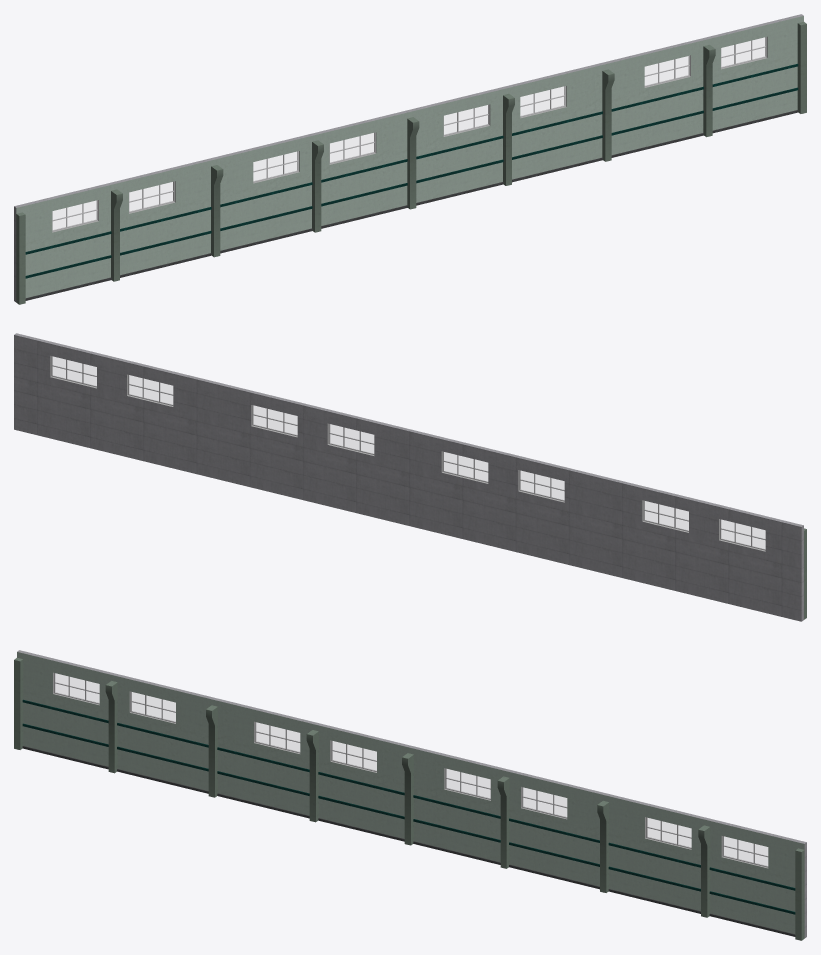
The model's file is WareBig_Walls_Wind.glb.
The picture shows the model from 3 angles, top to bottom: view 1: azimuth 30°, elevation 25°; view 2: azimuth 150°, elevation 25°; view 3: azimuth 330°, elevation 25°; orthographic projection.
Visible parts, largest first — view 1: WareBig_Walls_Wind (×2), WareBig_Column, WareBig_Windglass, WareBig_W, WareBig_Wind; view 2: WareBig_Walls_Wind, WareBig_Windglass, WareBig_Wind; view 3: WareBig_Walls_Wind (×2), WareBig_Column, WareBig_Windglass, WareBig_W, WareBig_Wind.
Part boxes in pixels (left/top/right/bottom): WareBig_Walls_Wind (×2): left=14, top=14, right=803, bottom=302; WareBig_Column: left=16, top=22, right=806, bottom=304; WareBig_Windglass: left=53, top=38, right=765, bottom=229; WareBig_W: left=25, top=63, right=798, bottom=278; WareBig_Wind: left=52, top=37, right=766, bottom=231; WareBig_Walls_Wind: left=14, top=333, right=803, bottom=621; WareBig_Windglass: left=52, top=357, right=765, bottom=548; WareBig_Wind: left=51, top=356, right=765, bottom=550; WareBig_Walls_Wind (×2): left=17, top=650, right=806, bottom=938; WareBig_Column: left=14, top=658, right=804, bottom=940; WareBig_Windglass: left=55, top=673, right=767, bottom=865; WareBig_W: left=22, top=699, right=795, bottom=914; WareBig_Wind: left=54, top=673, right=768, bottom=867.
Bounding box in the file's own units: 76.17 × 8.75 × 1.38.
Materials: 8 (7 with a texture image).
